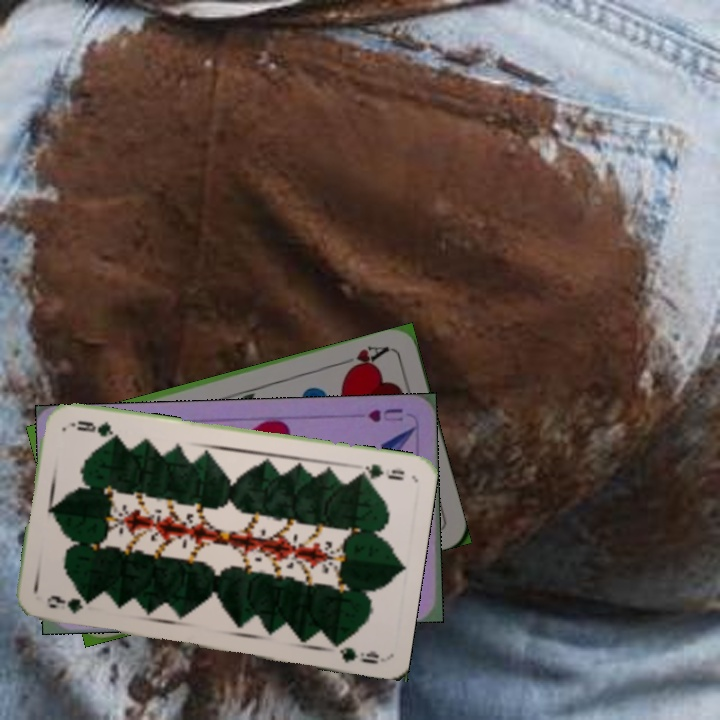G9: (351, 460, 407, 483), (42, 593, 85, 616)
HA: (335, 342, 393, 375)
HU: (364, 404, 406, 425)
